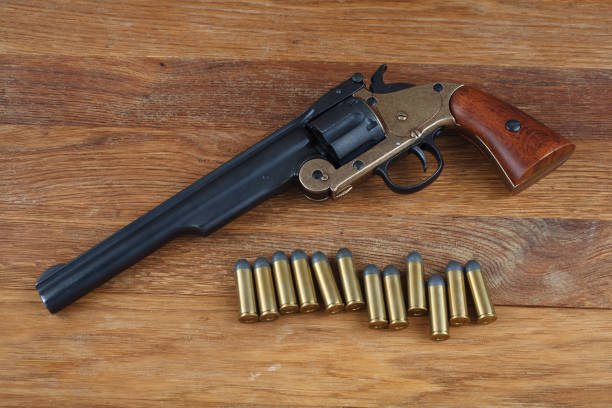gun: (34, 63, 573, 314)
